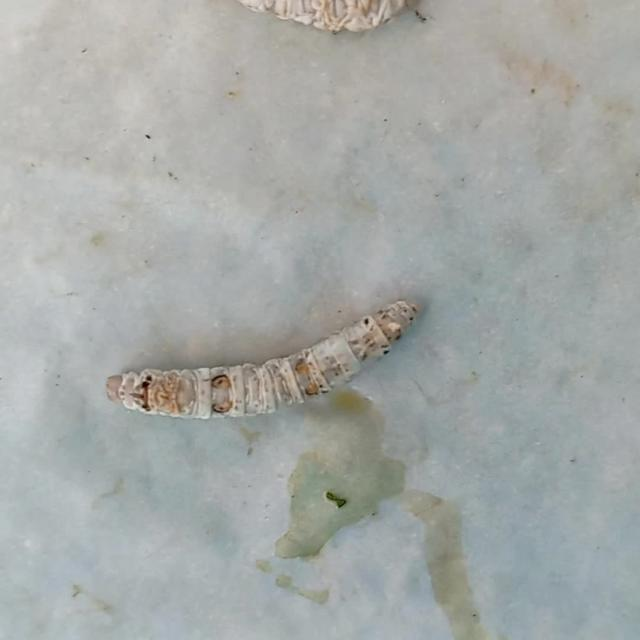Grasserie: (33, 248, 549, 460)
